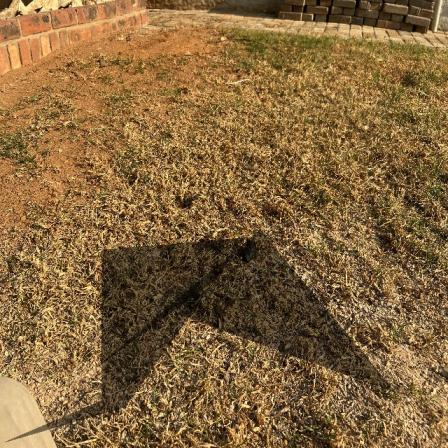dog-poop: (233, 232, 262, 264), (181, 190, 200, 211)
